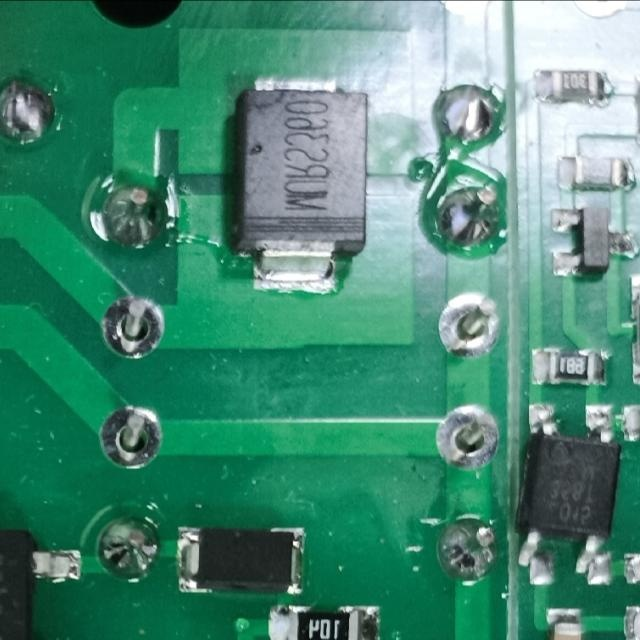chip-resistor: (264, 602, 381, 640), (555, 155, 640, 193), (527, 347, 611, 385), (530, 68, 612, 104)
diode: (233, 76, 372, 294), (174, 525, 306, 595)
ic: (515, 397, 617, 588)
transistor: (549, 205, 636, 278)
